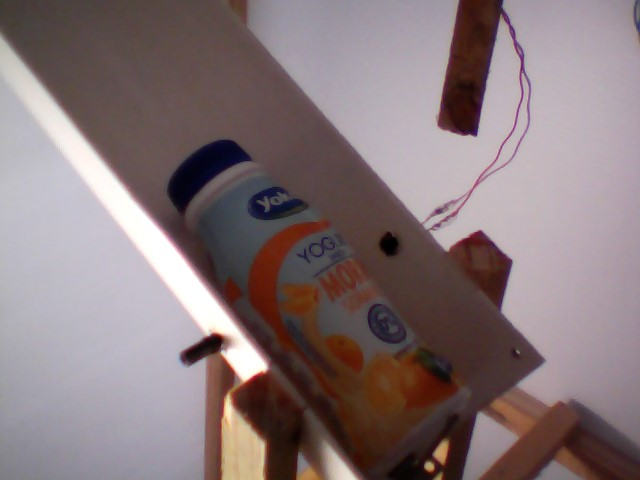plastico: (161, 133, 477, 475)
